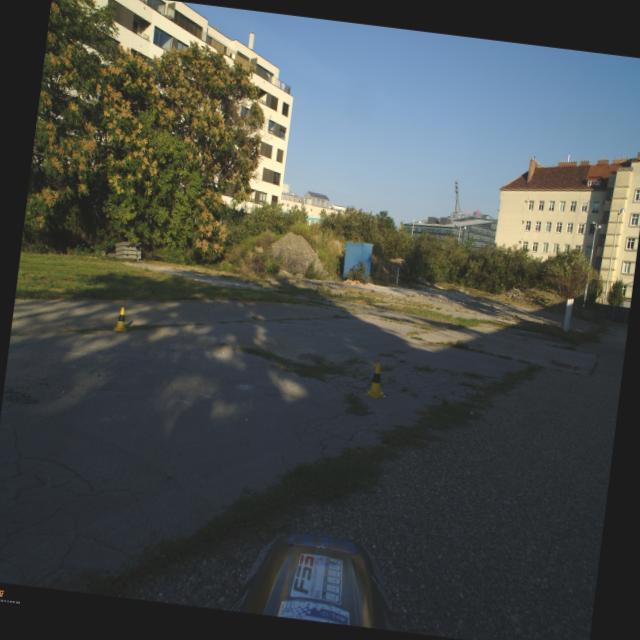yellow_cone: (364, 362, 389, 398), (112, 306, 130, 332)
